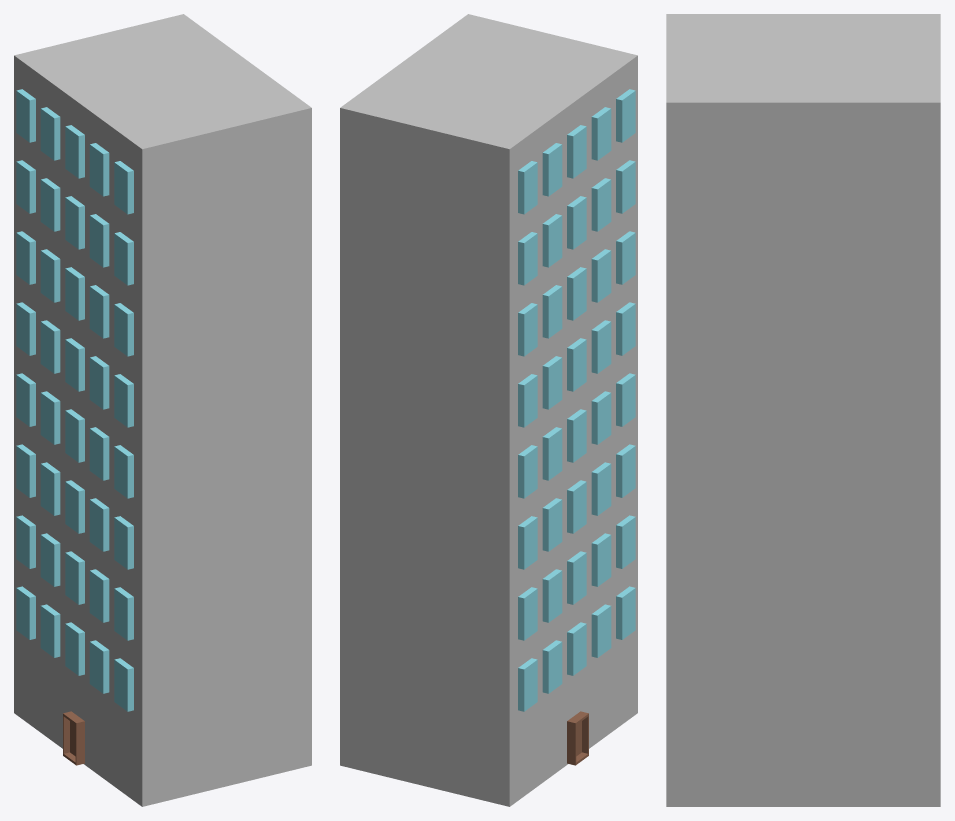
The model's file is building1.1.glb.
3 views of the same model, side by side, from view 1: azimuth 30°, elevation 25°; view 2: azimuth 150°, elevation 25°; view 3: azimuth 270°, elevation 25° (orthographic). The views are drawn at different scales.
Parts seen in each view (by area): view 1: Cube, Cube.001, Cube.002; view 2: Cube, Cube.001, Cube.002; view 3: Cube.
Boxes of the visible parts, x1=… form: Cube: x1=14, y1=14, x2=311, y2=806; Cube.001: x1=16, y1=89, x2=133, y2=711; Cube.002: x1=63, y1=711, x2=84, y2=765; Cube: x1=340, y1=14, x2=637, y2=806; Cube.001: x1=518, y1=89, x2=635, y2=711; Cube.002: x1=567, y1=711, x2=588, y2=765; Cube: x1=666, y1=14, x2=940, y2=806.
Size of the model in its own units: 2.1 by 7.41 by 2.62.
